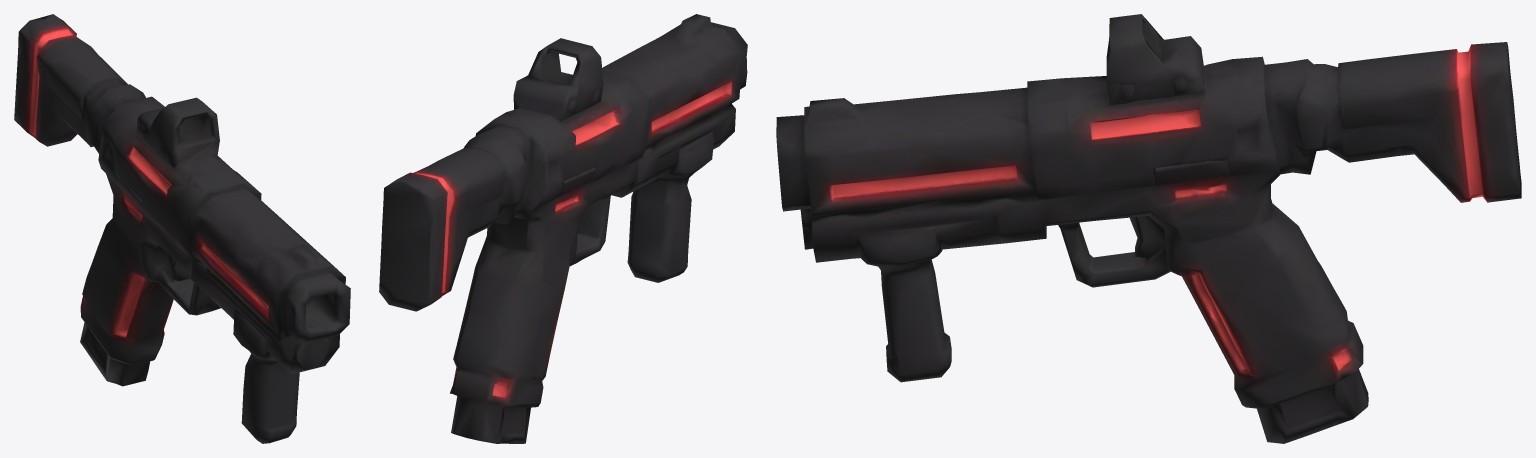
File: blaster.glb
3 views of the same model, side by side, from view 1: azimuth 30°, elevation 25°; view 2: azimuth 150°, elevation 25°; view 3: azimuth 270°, elevation 25° (orthographic). The views are drawn at different scales.
Visible parts, largest first — view 1: blaster; view 2: blaster; view 3: blaster.
Boxes of the visible parts, x1,y1,x2,y2 form: blaster: [14, 14, 350, 443]; blaster: [379, 14, 747, 443]; blaster: [776, 14, 1521, 443].
Size of the model in its own units: 0.0927 by 0.3856 by 0.6323.
Materials: 1 (1 with a texture image).
